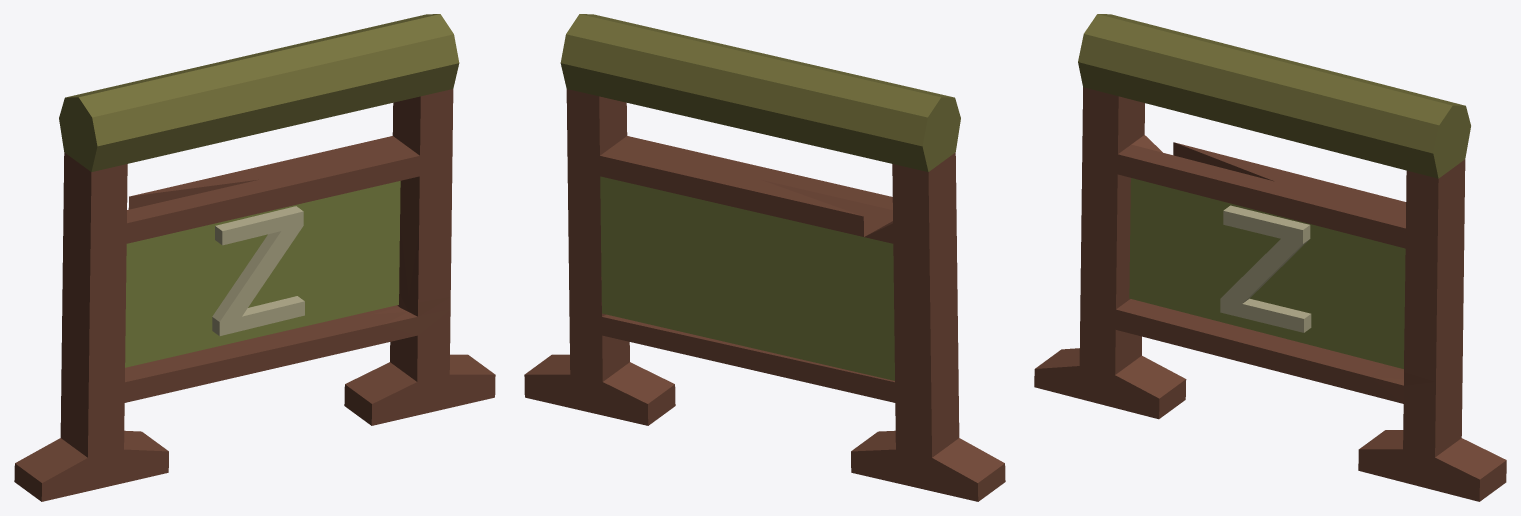
File: ObstaculoUno_Unity.fbx
The picture shows the model from 3 angles, left to right: view 1: azimuth 30°, elevation 25°; view 2: azimuth 150°, elevation 25°; view 3: azimuth 330°, elevation 25°; orthographic projection.
Parts seen in each view (by area): view 1: pCylinder3; view 2: pCylinder3; view 3: pCylinder3.
Boxes of the visible parts, box(x1,y1,x2,y2) form: pCylinder3: box(14, 14, 495, 501); pCylinder3: box(524, 14, 1005, 501); pCylinder3: box(1034, 14, 1506, 501).
Bounding box in the file's own units: 11.93 × 9.76 × 1.75.
